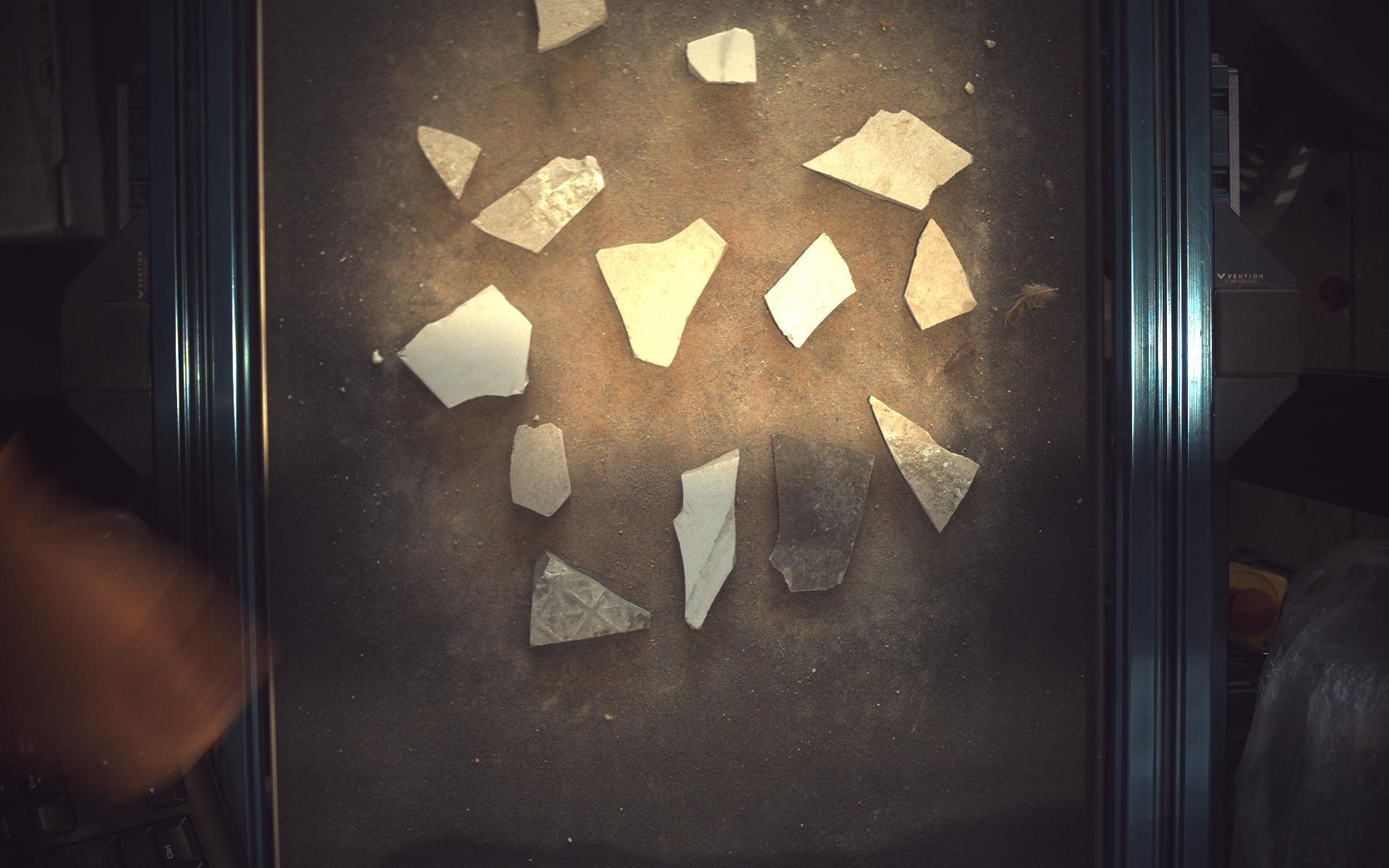tile: (597, 218, 728, 367), (805, 109, 975, 209), (770, 434, 876, 593), (398, 284, 532, 408), (871, 396, 981, 532), (472, 154, 605, 252), (674, 449, 741, 630), (530, 552, 652, 647), (766, 232, 857, 347), (906, 218, 978, 329), (511, 423, 572, 517), (417, 125, 481, 198), (687, 26, 758, 82), (536, 1, 608, 51)
